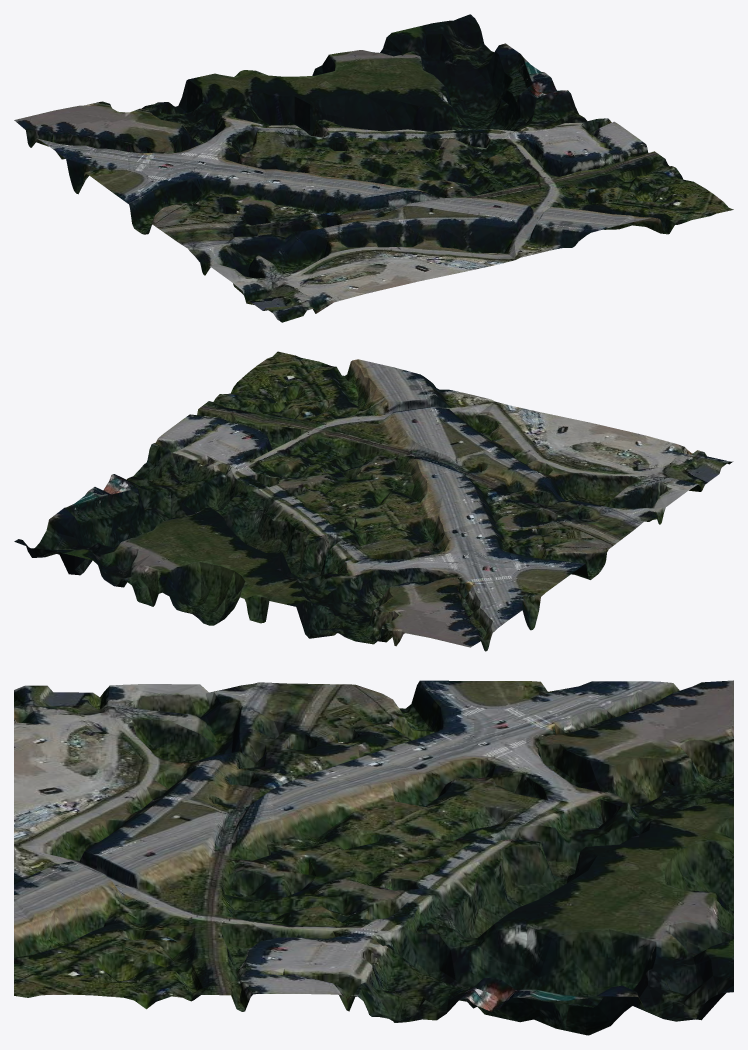
Rendered from map_13_2046_3449.dae.
3 renders of one model, top to bottom at view 1: azimuth 30°, elevation 25°; view 2: azimuth 150°, elevation 25°; view 3: azimuth 270°, elevation 25°, orthographic. The views are drawn at different scales.
Visible parts, largest first — view 1: Ter0; view 2: Ter0; view 3: Ter0.
Part boxes in pixels (x1,y1,x2,y2): Ter0: [14, 14, 733, 322]; Ter0: [14, 351, 733, 651]; Ter0: [14, 680, 733, 1035].
Bounding box in the file's own units: 256 × 256 × 32.83.
3 materials, 3 textured.
